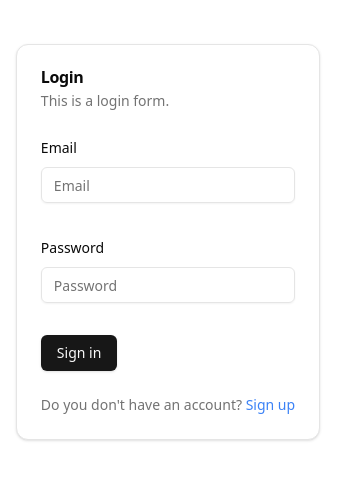
displays error message on invalid email or password
The image size is (337, 486).
Simula los cambios en los campos del formulario
In the field with placeholder "Email": (168, 185) [41,167,295,203], type "invalidemail@example.com"
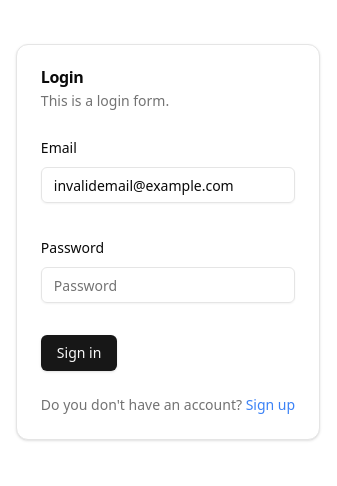
In the password field with placeholder "Password": (168, 285) [41,267,295,303], type "wrongpassword"
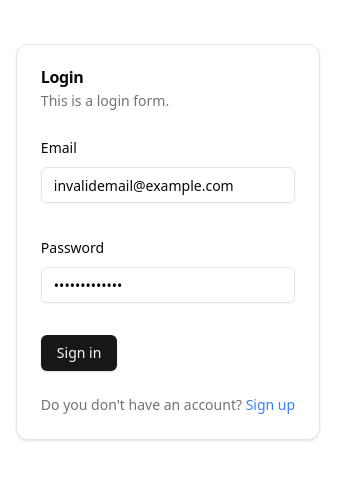
Simula el envío del formulario
Click the button "Sign in": (79, 353) [41,335,117,371]
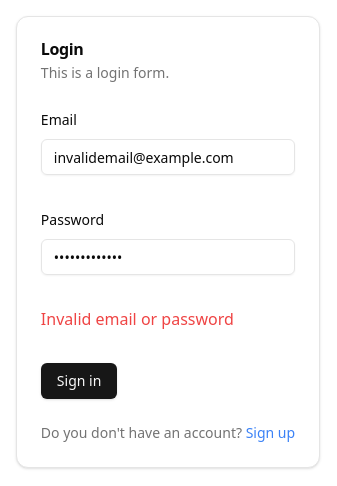
Expected: the text "Invalid email or password" is shown, [41,308,234,330]
